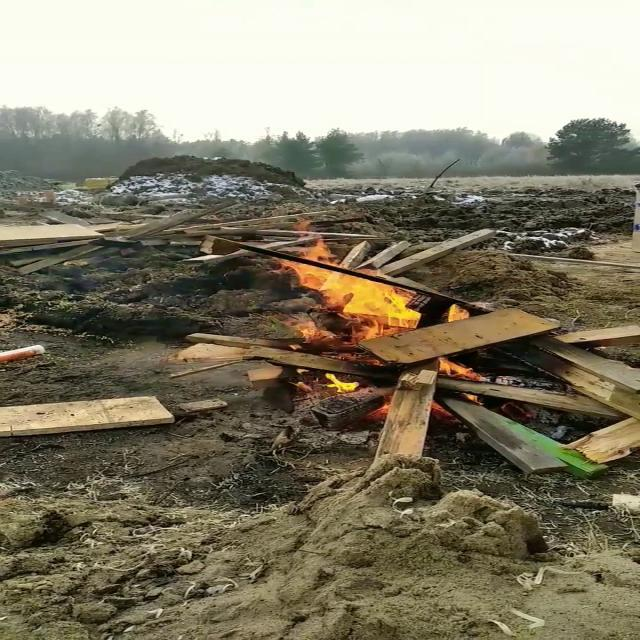Fire: (250, 250, 553, 432)
